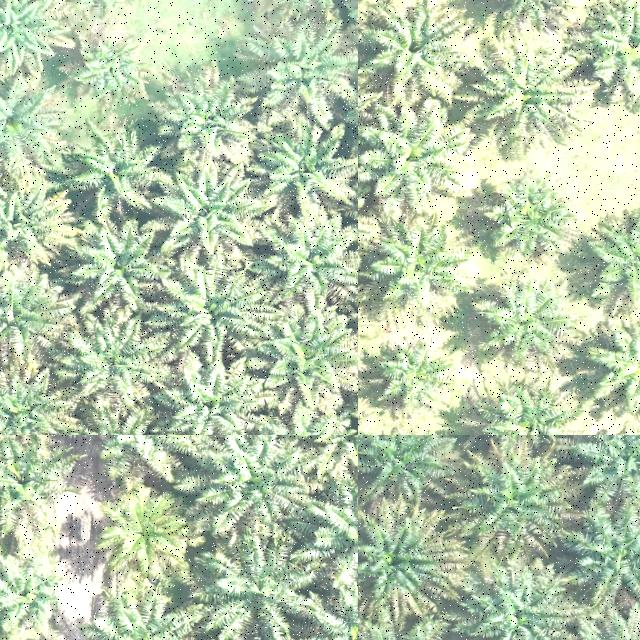Ganoderma: (104, 499, 178, 569)
